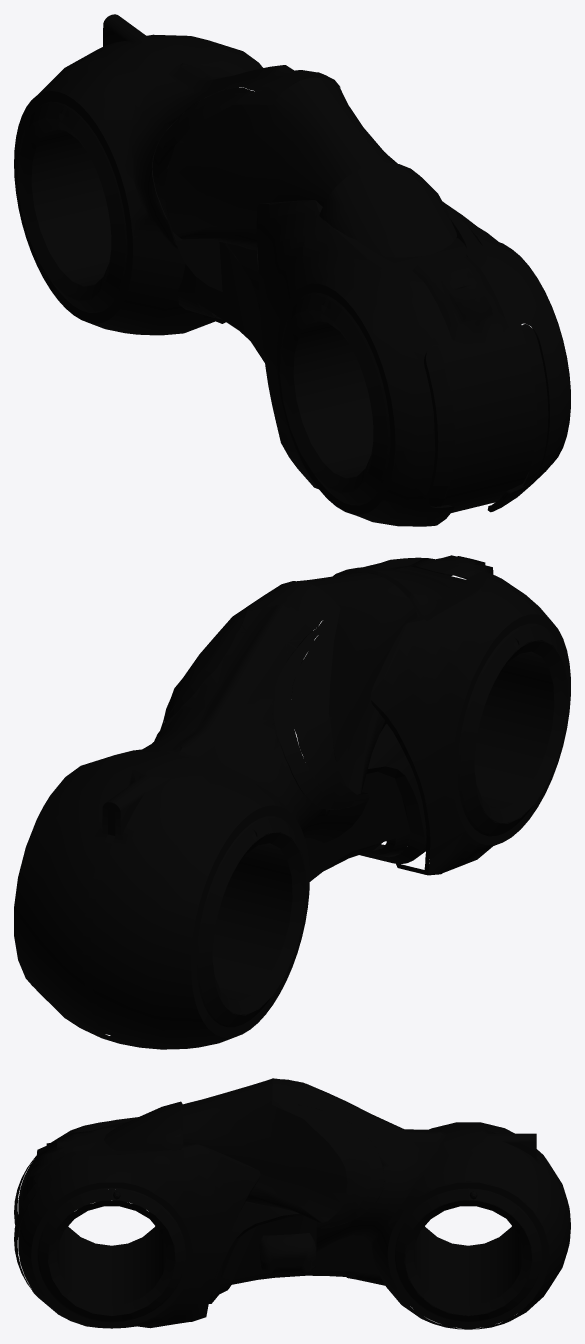
The model's file is New Bike.fbx.
The picture shows the model from 3 angles, top to bottom: view 1: azimuth 30°, elevation 25°; view 2: azimuth 150°, elevation 25°; view 3: azimuth 270°, elevation 25°; orthographic projection. The views are drawn at different scales.
Parts seen in each view (by area): view 1: TronbikeFinal:Body, TronbikeFinal:glass, polySurface4, TronbikeFinal:FrontTyre, TronbikeFinal:Body_1.002; view 2: TronbikeFinal:Body, polySurface4, TronbikeFinal:glass, TronbikeFinal:Body_1.002, TronbikeFinal:FrontTyre; view 3: TronbikeFinal:Body, TronbikeFinal:glass, polySurface4, TronbikeFinal:Body_1.001, TronbikeFinal:Body_1.002, TronbikeFinal:FrontTyre.
Boxes of the visible parts, <box> form: TronbikeFinal:Body: <box>14,14,570,526</box>; TronbikeFinal:glass: <box>164,77,397,250</box>; polySurface4: <box>19,85,548,506</box>; TronbikeFinal:FrontTyre: <box>382,237,536,512</box>; TronbikeFinal:Body_1.002: <box>412,254,508,344</box>; TronbikeFinal:Body: <box>14,557,570,1049</box>; polySurface4: <box>82,558,565,1035</box>; TronbikeFinal:glass: <box>165,572,417,794</box>; TronbikeFinal:Body_1.002: <box>412,555,493,579</box>; TronbikeFinal:FrontTyre: <box>333,566,466,843</box>; TronbikeFinal:Body: <box>18,1078,570,1329</box>; TronbikeFinal:glass: <box>182,1078,347,1222</box>; polySurface4: <box>14,1081,570,1321</box>; TronbikeFinal:Body_1.001: <box>259,1233,315,1274</box>; TronbikeFinal:Body_1.002: <box>27,1131,98,1176</box>; TronbikeFinal:FrontTyre: <box>20,1127,170,1255</box>.
Bounding box in the file's own units: 3.38 × 5.56 × 12.19.
5 materials, 5 textured.
